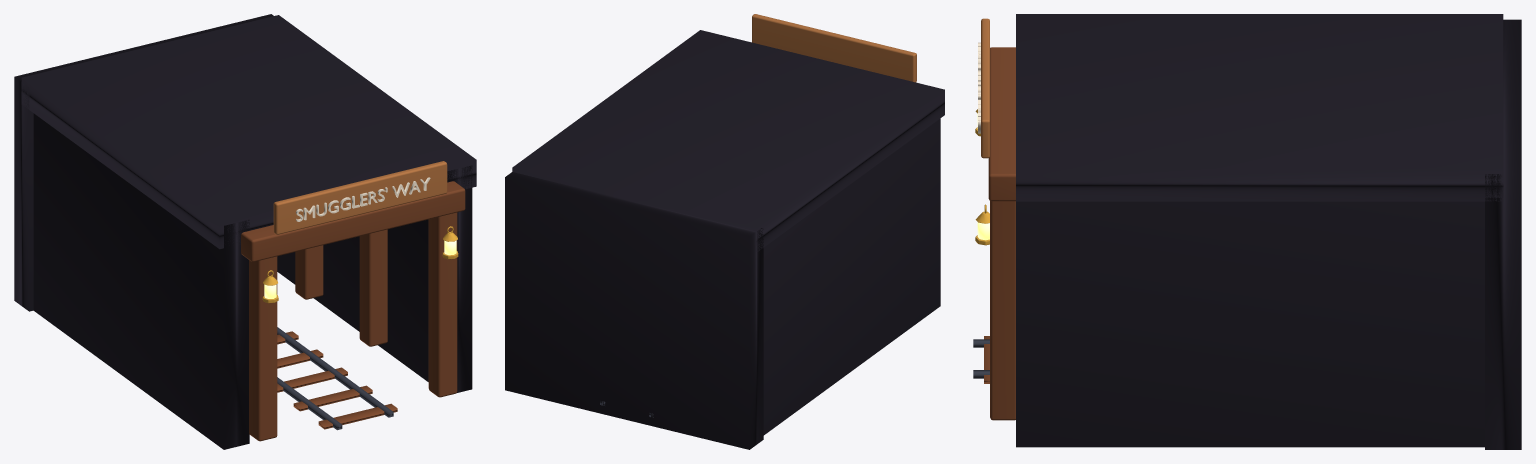
The model's file is cove_tunnel.glb.
3 renders of one model, left to right at view 1: azimuth 30°, elevation 25°; view 2: azimuth 150°, elevation 25°; view 3: azimuth 270°, elevation 25°, orthographic. The views are drawn at different scales.
Visible parts, largest first — view 1: Tunnel; view 2: Tunnel; view 3: Tunnel.
Boxes of the visible parts, left/top/right/bottom form: Tunnel: left=14, top=14, right=476, bottom=449; Tunnel: left=505, top=14, right=944, bottom=449; Tunnel: left=973, top=14, right=1521, bottom=449.
Size of the model in its own units: 6 by 5.5 by 9.
